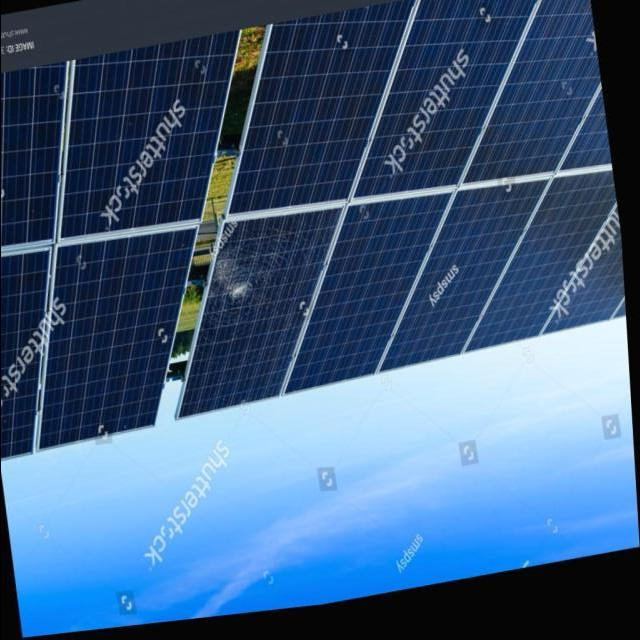cracked: (172, 206, 339, 425)
